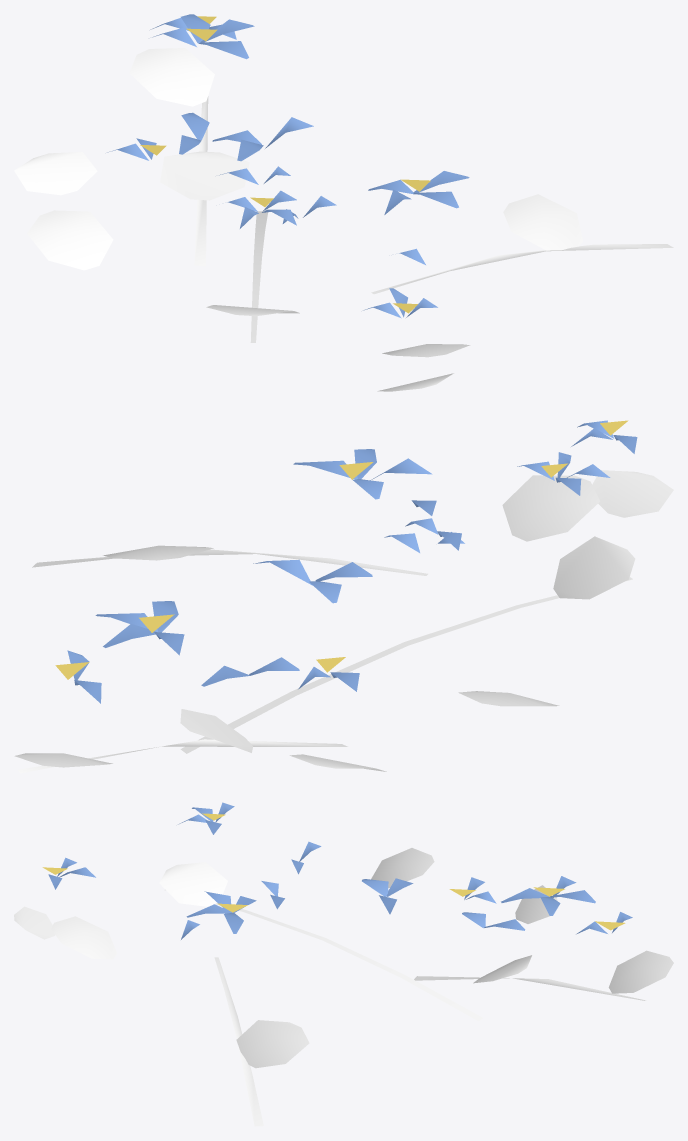
Rendered from TinyBlueFlowerClump_LOD0.glb.
The picture shows the model from 3 angles, top to bottom: view 1: azimuth 30°, elevation 25°; view 2: azimuth 150°, elevation 25°; view 3: azimuth 270°, elevation 25°; orthographic projection. The views are drawn at different scales.
Parts seen in each view (by area): view 1: TinyBlueFlowerClump_LOD0; view 2: TinyBlueFlowerClump_LOD0; view 3: TinyBlueFlowerClump_LOD0.
Boxes of the visible parts, x1,y1,x2,y2 form: TinyBlueFlowerClump_LOD0: (14, 14, 673, 391); TinyBlueFlowerClump_LOD0: (14, 420, 673, 773); TinyBlueFlowerClump_LOD0: (14, 802, 673, 1126).
Size of the model in its own units: 0.6606 by 0.1999 by 0.8511.
